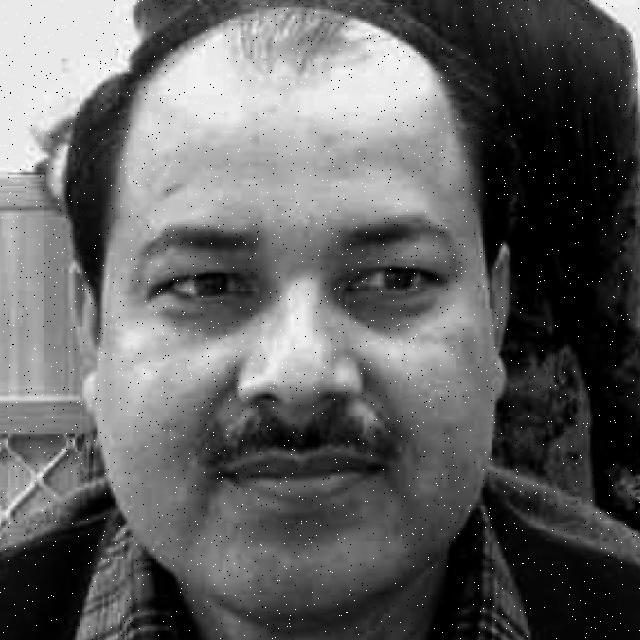puffy_eyes: (338, 289, 441, 330), (157, 297, 265, 332)
